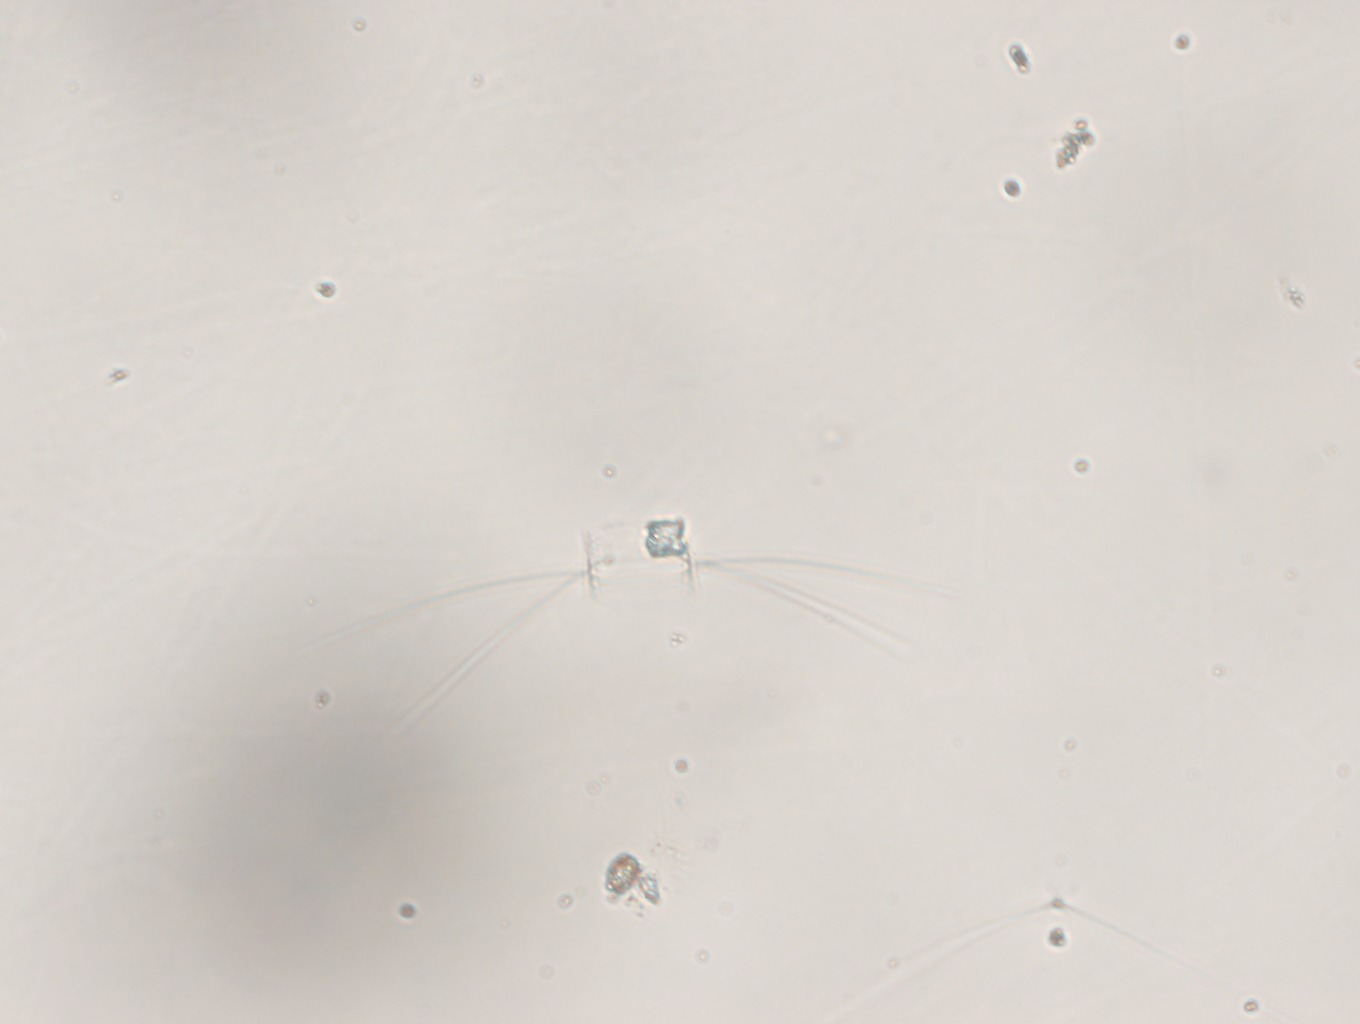chaetoceros: (350, 509, 980, 723)
